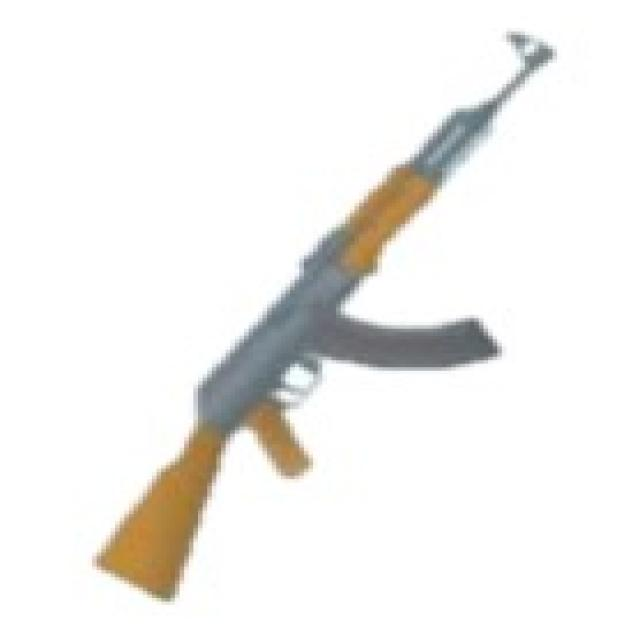rifle: (88, 22, 574, 601)
